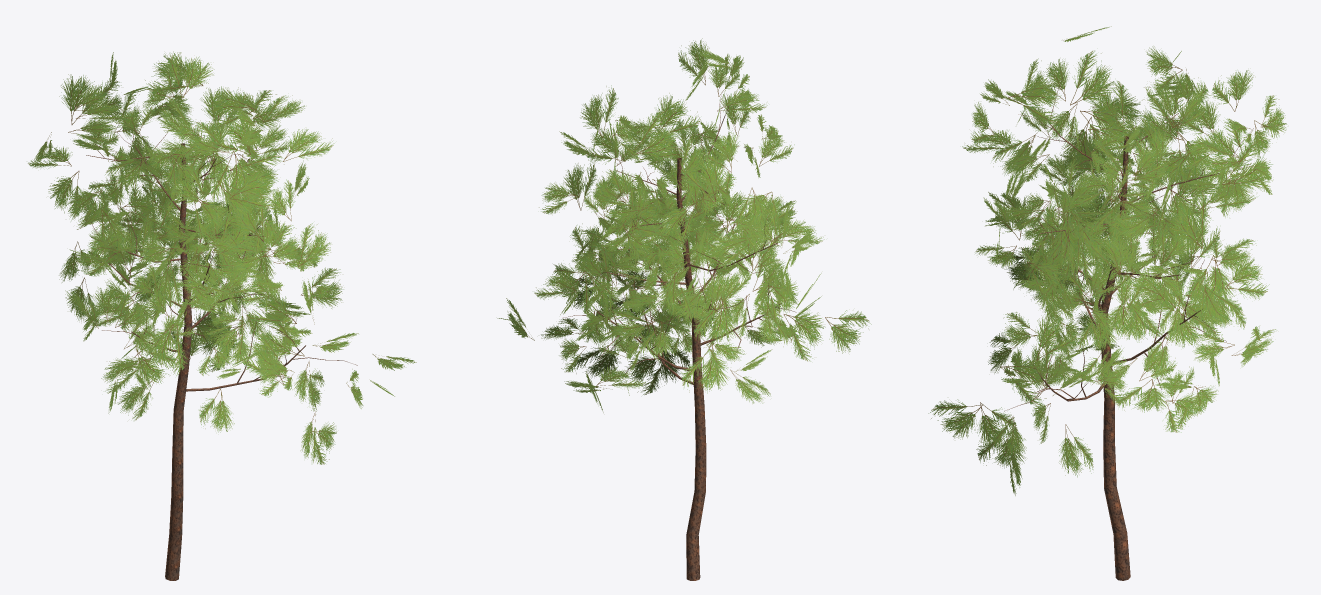
File: AP2_AleppoPine_Medium_8m.glb
The picture shows the model from 3 angles, left to right: view 1: azimuth 30°, elevation 25°; view 2: azimuth 150°, elevation 25°; view 3: azimuth 270°, elevation 25°; orthographic projection. The views are drawn at different scales.
Parts seen in each view (by area): view 1: AP2_leaves, AP2_wood; view 2: AP2_leaves, AP2_wood; view 3: AP2_leaves, AP2_wood.
Boxes of the visible parts, box(x1,y1,x2,y2) form: AP2_leaves: box(28, 51, 416, 464); AP2_wood: box(69, 98, 357, 580); AP2_leaves: box(497, 38, 871, 412); AP2_wood: box(563, 95, 796, 580); AP2_leaves: box(928, 26, 1286, 495); AP2_wood: box(1004, 77, 1253, 580).
Bounding box in the file's own units: 5.14 × 8.01 × 5.09.
Materials: 2 (2 with a texture image).
